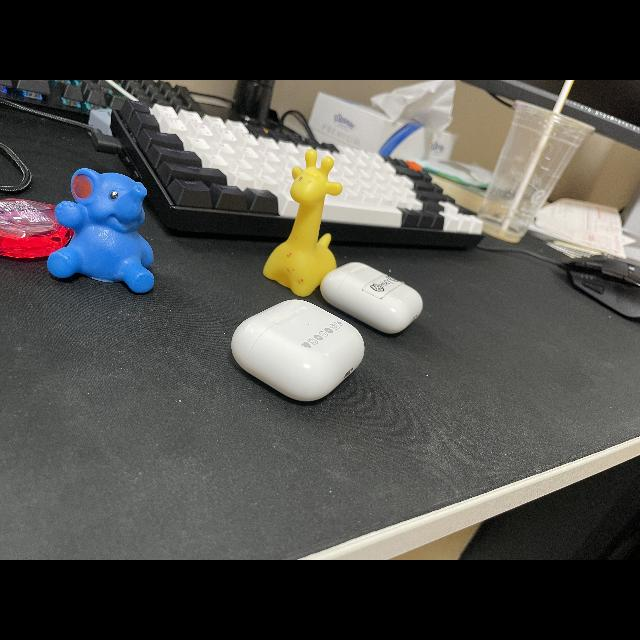airpod2: (316, 255, 432, 338)
airpod3: (227, 289, 366, 419)
